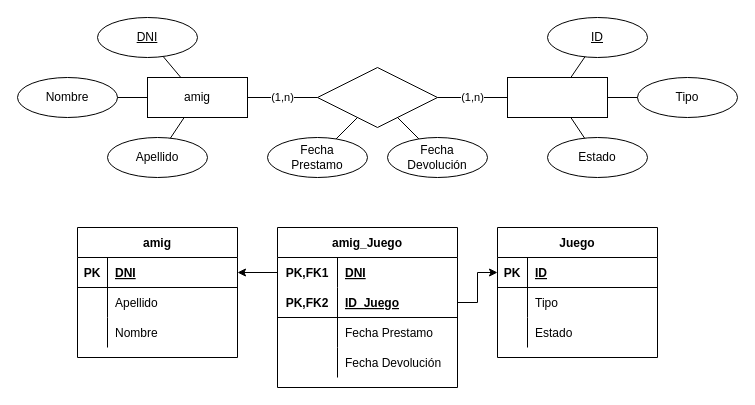
Some shapes in this 755 by 405 pixel diagram are drawn without their labels. Each missing label, with the centre of its shape:
"Juego DVD" goes at (x=557, y=97).
"Presta" goes at (x=377, y=97).
